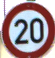20 km speed: (1, 1, 54, 57)
